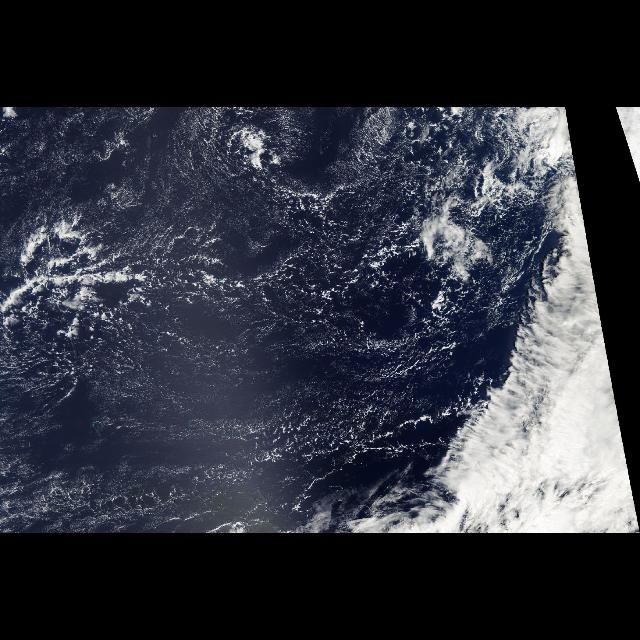Gravel: (252, 108, 508, 364)
Sugar: (6, 108, 242, 238)
